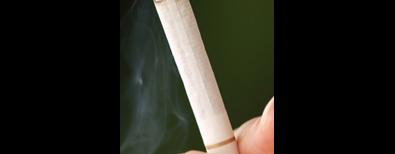Cigarette: (144, 0, 269, 154)
